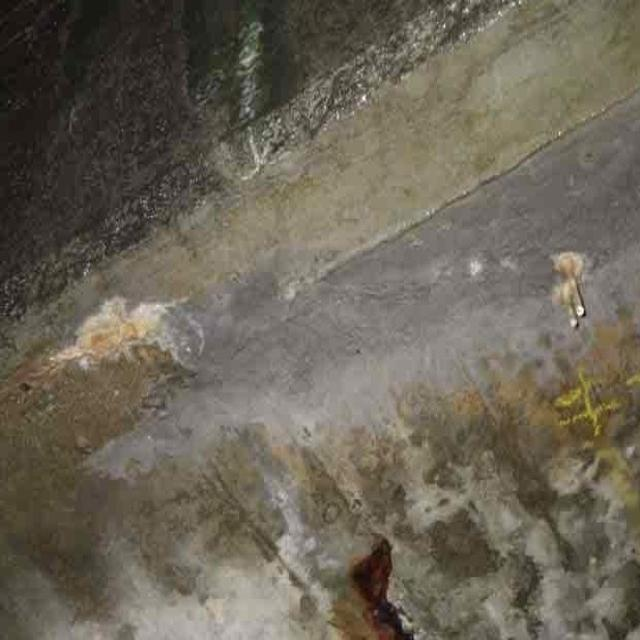freelime: (37, 280, 197, 369)
leakage: (14, 396, 637, 636)
